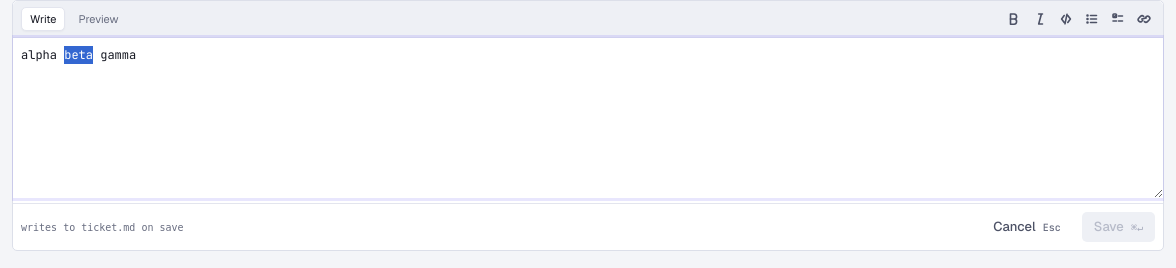
Test: the formatting toolbar › puts the caret back where the action left it
The image size is (1176, 268).
Click the button named "Bold".
click(1013, 19)  # box [1001,7,1025,31]
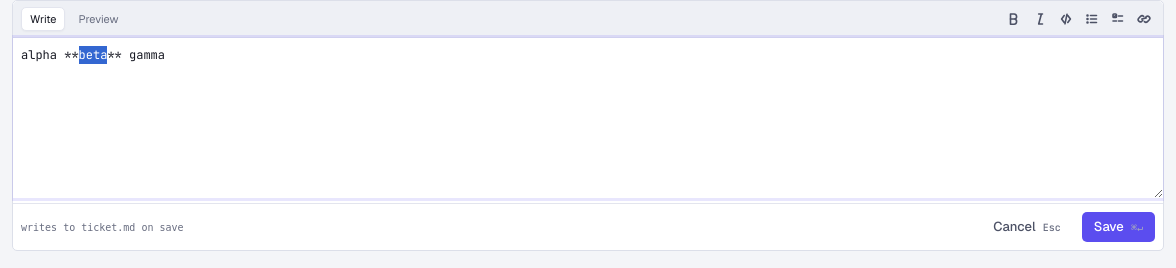
Expected: the text box named "Description" holds "alpha **beta** gamma", [13,38,1163,198]
